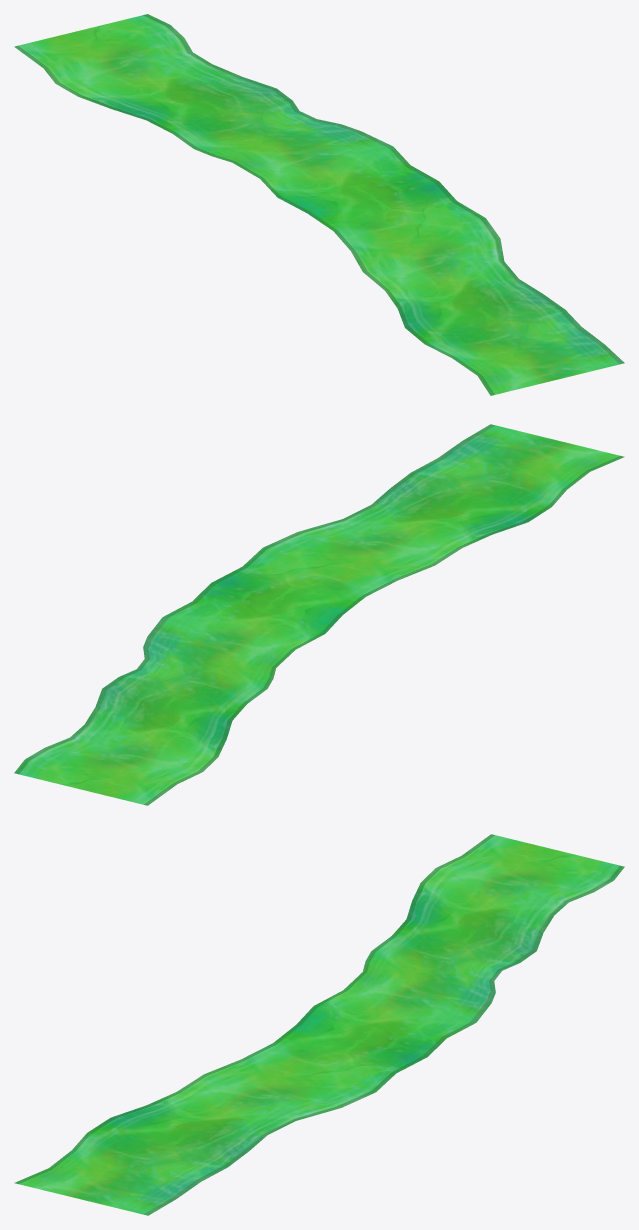
The model's file is Amazon04_Lu03.FBX.
3 renders of one model, top to bottom at view 1: azimuth 30°, elevation 25°; view 2: azimuth 150°, elevation 25°; view 3: azimuth 330°, elevation 25°, orthographic.
Parts seen in each view (by area): view 1: Amazon04_Lu03; view 2: Amazon04_Lu03; view 3: Amazon04_Lu03.
Boxes of the visible parts, x1=… form: Amazon04_Lu03: x1=14, y1=14, x2=624, y2=395; Amazon04_Lu03: x1=14, y1=424, x2=624, y2=805; Amazon04_Lu03: x1=14, y1=834, x2=624, y2=1215.
Size of the model in its own units: 1383 by 0.000244 by 6041.
